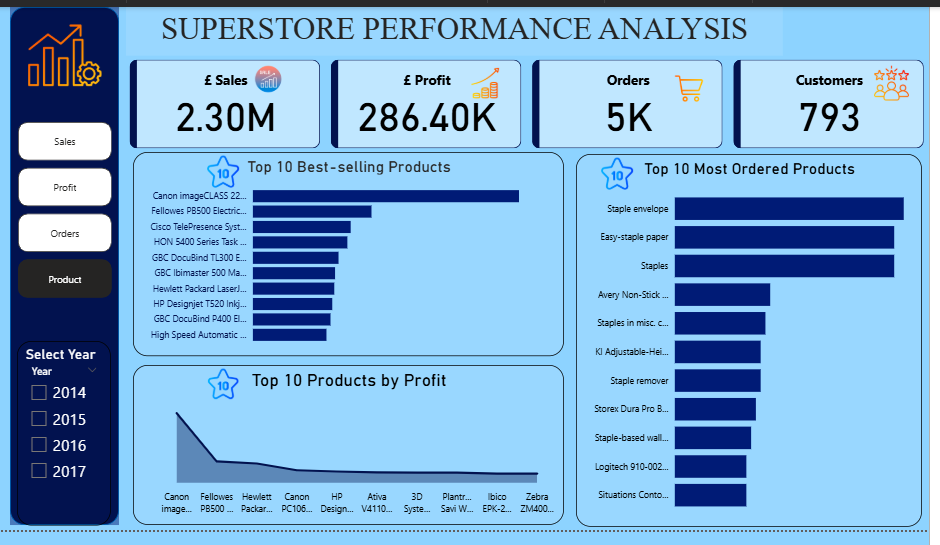

What the dashboard file says about the page in this screenshot:
{"tool":"powerbi","page":{"name":"Product","canvas":[1280,720],"ordinal":3},"visuals":[{"type":"shape","box":[15.1,0,150,713],"z":0},{"type":"pageNavigator","box":[26.1,158.3,129.4,243.6],"z":1000},{"type":"textbox","box":[174.8,0,904.3,67.4],"z":2000},{"type":"clusteredBarChart","title":"Top 10 Best-selling Products","fields":{"Category":["Sheet1.Product Name"],"Y":["Sum(Sheet1.Sales)"]},"box":[184.4,199.6,593.2,280.8],"z":3000},{"type":"areaChart","title":"Top 10 Products by Profit","fields":{"Category":["Sheet1.Product Name"],"Y":["Sum(Sheet1.Profit)"]},"box":[184.4,492.7,593.2,220.2],"z":4000},{"type":"clusteredBarChart","title":"Top 10 Most Ordered Products","fields":{"Category":["Sheet1.Product Name"],"Y":["Sheet1.No of orders"]},"box":[794.1,202.3,476.2,513.4],"z":5000},{"type":"cardVisual","fields":{"Data":["Sheet1.£ Sales","Sheet1.£ Profit","Sheet1.Orders","Sheet1.Customers"]},"box":[174.8,67.4,1105.2,132.1],"z":6000},{"type":"slicer","title":"Select Year","fields":{"Values":["Sheet1.Order Date.Variation.Date Hierarchy.Year"]},"box":[25.2,460.3,129.3,253.7],"z":6001},{"type":"image","box":[622.1,75.7,93.6,57.8],"z":6002},{"type":"image","box":[344.1,75.7,53.7,46.8],"z":6003},{"type":"image","box":[911.1,75.7,77.1,73],"z":6004},{"type":"image","box":[1186.4,75.7,84,57.8],"z":6005},{"type":"image","box":[15.1,11,150,111.5],"z":6006},{"type":"image","box":[814.8,202.3,71.6,53.7],"z":6007},{"type":"image","box":[272.5,199.6,71.6,53.7],"z":6008},{"type":"image","box":[272.5,492.7,71.6,52.3],"z":6009}]}

Visuals, with their boxes in screenshot pixels (x1, y1, x2, y2), scaled from the page's 1280x720 canvas onto the 940x545 screenshot:
shape: [x1=11, y1=0, x2=121, y2=540]
pageNavigator: [x1=19, y1=120, x2=114, y2=304]
textbox: [x1=128, y1=0, x2=792, y2=51]
"Top 10 Best-selling Products" clusteredBarChart: [x1=135, y1=151, x2=571, y2=364]
"Top 10 Products by Profit" areaChart: [x1=135, y1=373, x2=571, y2=540]
"Top 10 Most Ordered Products" clusteredBarChart: [x1=583, y1=153, x2=933, y2=542]
cardVisual - Sheet1.£ Sales x Sheet1.£ Profit: [x1=128, y1=51, x2=939, y2=151]
"Select Year" slicer: [x1=19, y1=348, x2=113, y2=540]
image: [x1=457, y1=57, x2=526, y2=101]
image: [x1=253, y1=57, x2=292, y2=93]
image: [x1=669, y1=57, x2=726, y2=113]
image: [x1=871, y1=57, x2=933, y2=101]
image: [x1=11, y1=8, x2=121, y2=93]
image: [x1=598, y1=153, x2=651, y2=194]
image: [x1=200, y1=151, x2=253, y2=192]
image: [x1=200, y1=373, x2=253, y2=413]
